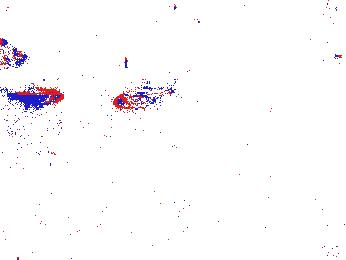X-ray fish: (1, 37, 28, 72)
red belly glassfish: (113, 81, 176, 110), (8, 87, 64, 106), (330, 50, 346, 71)
